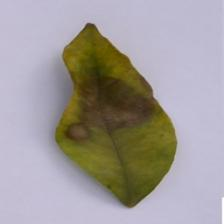black spot: (75, 73, 161, 143)
